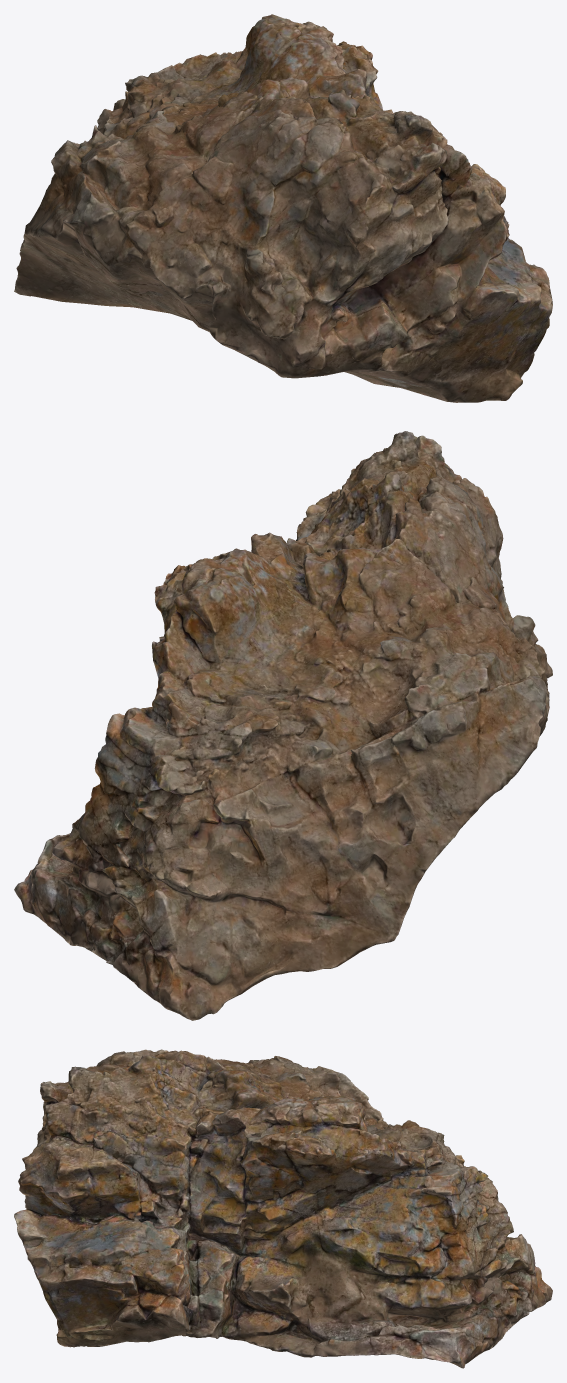
Rendered from boulder_01.glb.
3 renders of one model, top to bottom at view 1: azimuth 30°, elevation 25°; view 2: azimuth 150°, elevation 25°; view 3: azimuth 270°, elevation 25°, orthographic. The views are drawn at different scales.
Visible parts, largest first — view 1: boulder_01; view 2: boulder_01; view 3: boulder_01.
Boxes of the visible parts, x1,y1,x2,y2 form: boulder_01: [14, 14, 552, 402]; boulder_01: [14, 431, 552, 1020]; boulder_01: [14, 1049, 552, 1368].
Bounding box in the file's own units: 1.27 × 1 × 1.83.
Materials: 1 (1 with a texture image).
